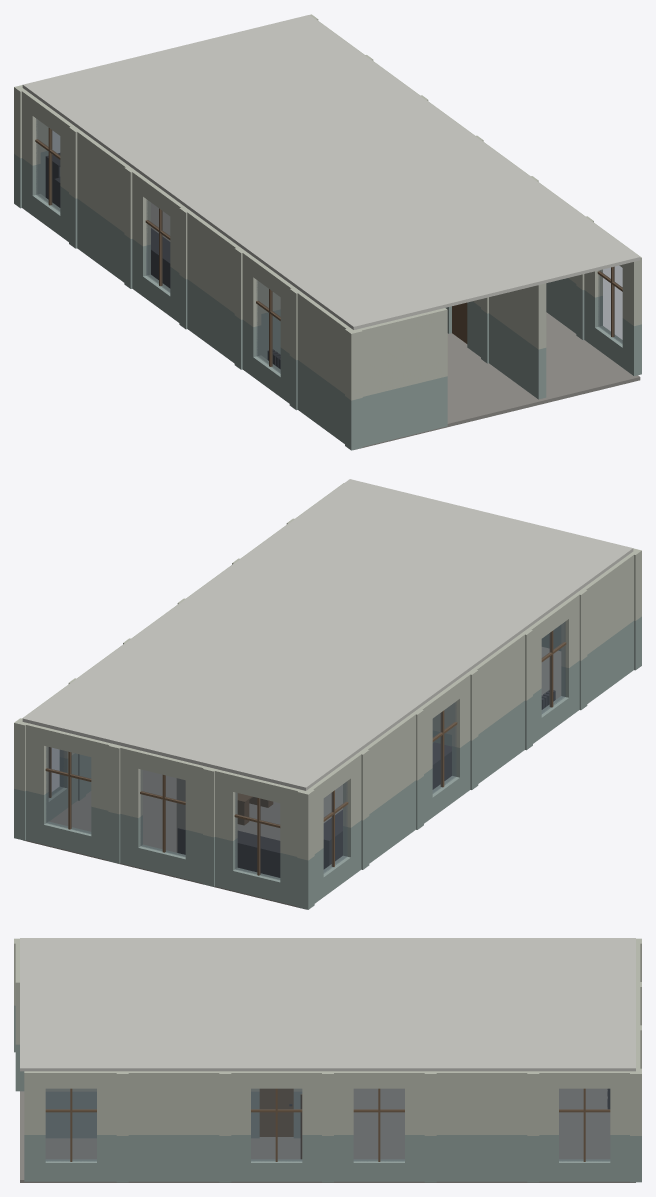
Rendered from INT_DirectorWing.glb.
3 renders of one model, top to bottom at view 1: azimuth 30°, elevation 25°; view 2: azimuth 150°, elevation 25°; view 3: azimuth 270°, elevation 25°, orthographic. The views are drawn at different scales.
Visible parts, largest first — view 1: INT_DirectorWing_Wall_Solid_01, INT_DirectorWing_Wall_Solid_04, INT_DirectorWing_Wall_Solid_02, INT_DirectorWing_Wall_Solid_03, INT_DirectorWing_Wall_Window_01, INT_DirectorWing_Wall_Window_02, INT_DirectorWing_Ceiling_Tile_01, INT_DirectorWing_Wall_Window_03, INT_DirectorWing_Ceiling_Tile_13, INT_DirectorWing_Ceiling_Tile_07, INT_DirectorWing_Wall_Window_04, INT_DirectorWing_Wall_Solid_07 (+30 smaller); view 2: INT_DirectorWing_Wall_Window_09, INT_DirectorWing_Wall_Window_10, INT_DirectorWing_Wall_Window_08, INT_DirectorWing_Wall_Window_03, INT_DirectorWing_Wall_Solid_03, INT_DirectorWing_Wall_Window_02, INT_DirectorWing_Wall_Solid_02, INT_DirectorWing_Wall_Window_01, INT_DirectorWing_Wall_Solid_04, INT_DirectorWing_Ceiling_Tile_06, INT_DirectorWing_Ceiling_Tile_12, INT_DirectorWing_Ceiling_Tile_18 (+32 smaller); view 3: INT_DirectorWing_Wall_Window_04, INT_DirectorWing_Wall_Solid_05, INT_DirectorWing_Wall_Solid_06, INT_DirectorWing_Wall_Window_05, INT_DirectorWing_Wall_Window_07, INT_DirectorWing_Wall_Window_06, INT_DirectorWing_Ceiling_Tile_14, INT_DirectorWing_Ceiling_Tile_17, INT_DirectorWing_Ceiling_Tile_13, INT_DirectorWing_Ceiling_Tile_15, INT_DirectorWing_Ceiling_Tile_16, INT_DirectorWing_Ceiling_Tile_18 (+28 smaller).
Part boxes in pixels (<box>): INT_DirectorWing_Wall_Solid_01: <box>358,308,447,446</box>; INT_DirectorWing_Wall_Solid_04: <box>76,130,129,282</box>; INT_DirectorWing_Wall_Solid_02: <box>297,292,349,443</box>; INT_DirectorWing_Wall_Solid_03: <box>187,211,239,363</box>; INT_DirectorWing_Wall_Window_01: <box>242,251,294,403</box>; INT_DirectorWing_Wall_Window_02: <box>132,171,184,322</box>; INT_DirectorWing_Ceiling_Tile_01: <box>298,263,449,329</box>; INT_DirectorWing_Wall_Window_03: <box>21,90,73,241</box>; INT_DirectorWing_Ceiling_Tile_13: <box>490,216,640,283</box>; INT_DirectorWing_Ceiling_Tile_07: <box>394,240,544,306</box>; INT_DirectorWing_Wall_Window_04: <box>584,221,641,375</box>; INT_DirectorWing_Wall_Solid_07: <box>489,283,546,399</box>; INT_DirectorWing_Wall_Window_09: <box>120,746,206,883</box>; INT_DirectorWing_Wall_Window_10: <box>26,723,111,859</box>; INT_DirectorWing_Wall_Window_08: <box>213,769,299,906</box>; INT_DirectorWing_Wall_Window_03: <box>309,753,361,903</box>; INT_DirectorWing_Wall_Solid_03: <box>473,633,525,783</box>; INT_DirectorWing_Wall_Window_02: <box>418,673,470,823</box>; INT_DirectorWing_Wall_Solid_02: <box>581,554,633,703</box>; INT_DirectorWing_Wall_Window_01: <box>528,593,579,743</box>; INT_DirectorWing_Wall_Solid_04: <box>364,713,415,863</box>; INT_DirectorWing_Ceiling_Tile_06: <box>211,724,360,790</box>; INT_DirectorWing_Ceiling_Tile_12: <box>117,701,265,767</box>; INT_DirectorWing_Ceiling_Tile_18: <box>22,678,170,744</box>; INT_DirectorWing_Wall_Window_04: <box>24,1071,118,1181</box>; INT_DirectorWing_Wall_Solid_05: <box>127,1071,220,1181</box>; INT_DirectorWing_Wall_Solid_06: <box>435,1071,528,1181</box>; INT_DirectorWing_Wall_Window_05: <box>229,1071,323,1181</box>; INT_DirectorWing_Wall_Window_07: <box>537,1071,631,1181</box>; INT_DirectorWing_Wall_Window_06: <box>332,1071,426,1181</box>; INT_DirectorWing_Ceiling_Tile_14: <box>122,1024,225,1071</box>; INT_DirectorWing_Ceiling_Tile_17: <box>430,1024,533,1071</box>; INT_DirectorWing_Ceiling_Tile_13: <box>20,1024,122,1071</box>; INT_DirectorWing_Ceiling_Tile_15: <box>225,1024,327,1071</box>; INT_DirectorWing_Ceiling_Tile_16: <box>328,1024,430,1071</box>; INT_DirectorWing_Ceiling_Tile_18: <box>533,1024,635,1071</box>.
Size of the model in its own units: 9.35 by 3.7 by 18.35.
